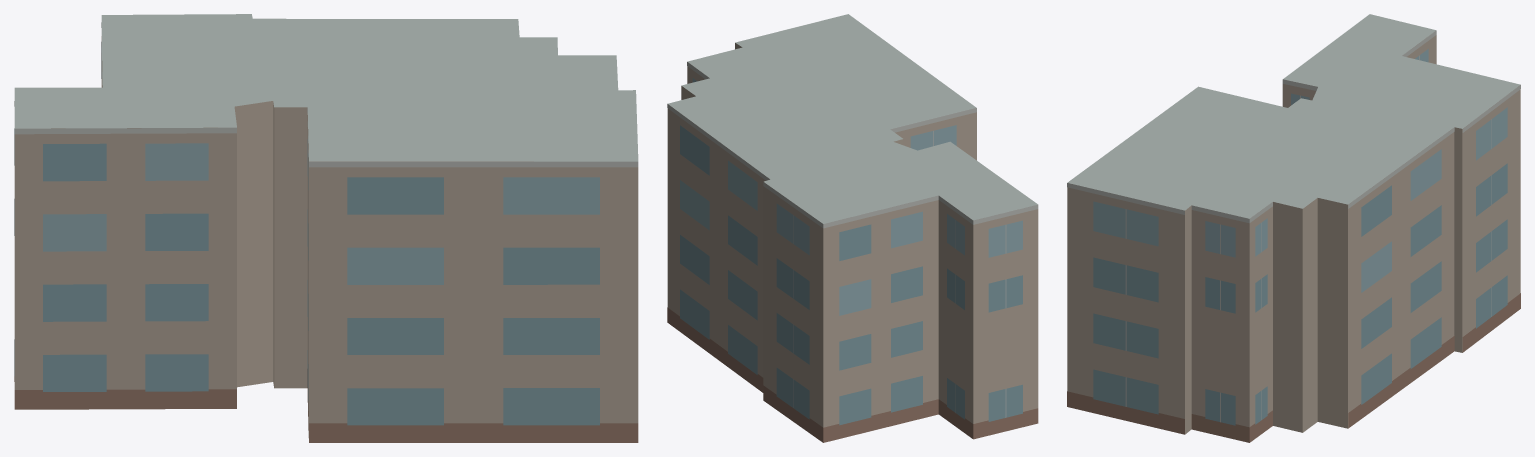
File: survey-upis-33038883.glb
The picture shows the model from 3 angles, left to right: view 1: azimuth 30°, elevation 25°; view 2: azimuth 150°, elevation 25°; view 3: azimuth 270°, elevation 25°; orthographic projection. The views are drawn at different scales.
Parts seen in each view (by area): view 1: survey-upis-33038883.tmp; view 2: survey-upis-33038883.tmp; view 3: survey-upis-33038883.tmp.
Part boxes in pixels (x1,y1,x2,y2): survey-upis-33038883.tmp: (14,14,638,442); survey-upis-33038883.tmp: (667,14,1038,442); survey-upis-33038883.tmp: (1067,14,1520,442).
Bounding box in the file's own units: 23.92 × 12.2 × 22.39.
